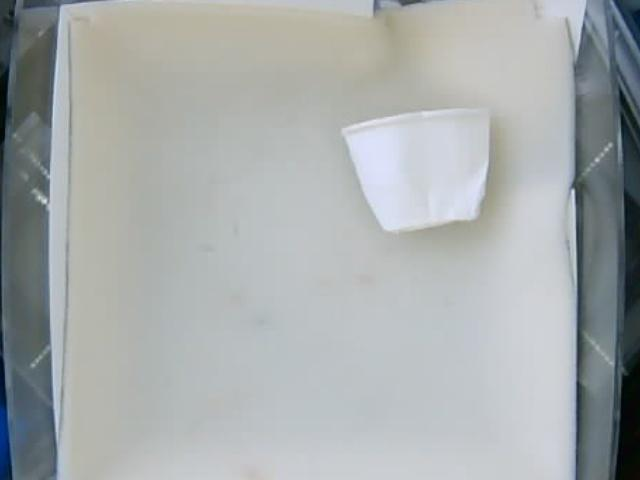Cup: (345, 107, 490, 230)
